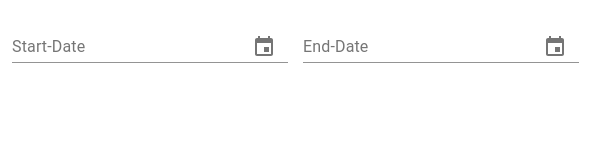
Test: <DateRange> › error if start date after end date
The width and height of the screenshot is (596, 160).
In the field with id "kdp-startDate": {"x": 122, "y": 47} 12,31 -> 232,63, type "08/30/2019"
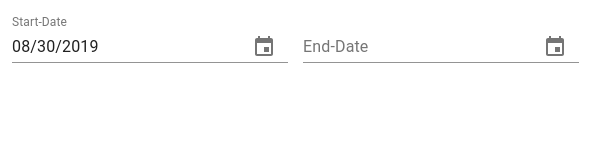
In the field with id "kdp-endDate": {"x": 413, "y": 47} 303,31 -> 523,63, type "08/20/2019"
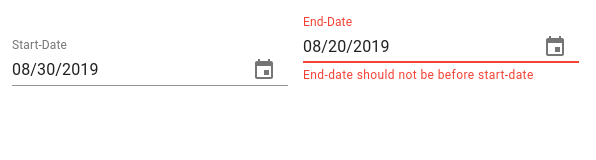
Expected: the text with id "kdp-endDate-helper-text" reads "End-date should not be before start-date", 303,68 -> 534,82
